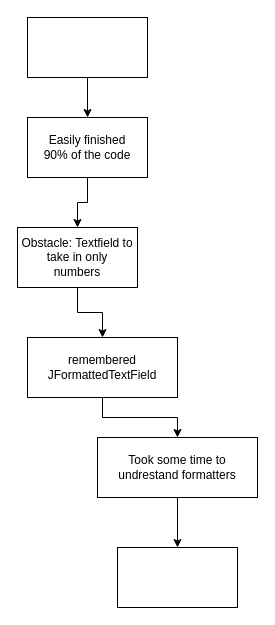
This 275x625 diagram has some shape labels left out. Each missing label, with the box of its shape:
Finished code :): (116, 546, 238, 608)
Read the question: (26, 16, 148, 78)
